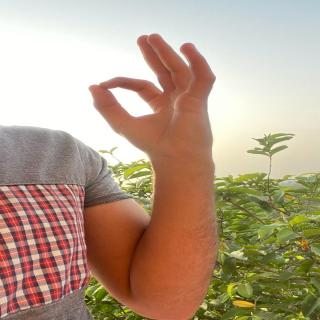Space: (86, 26, 225, 149)
